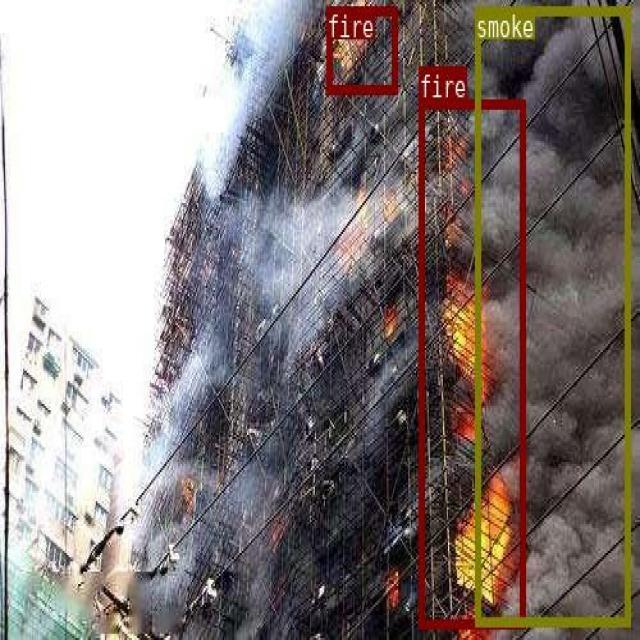fire: (418, 99, 524, 627), (326, 5, 396, 92)
smoke: (475, 4, 629, 624)
